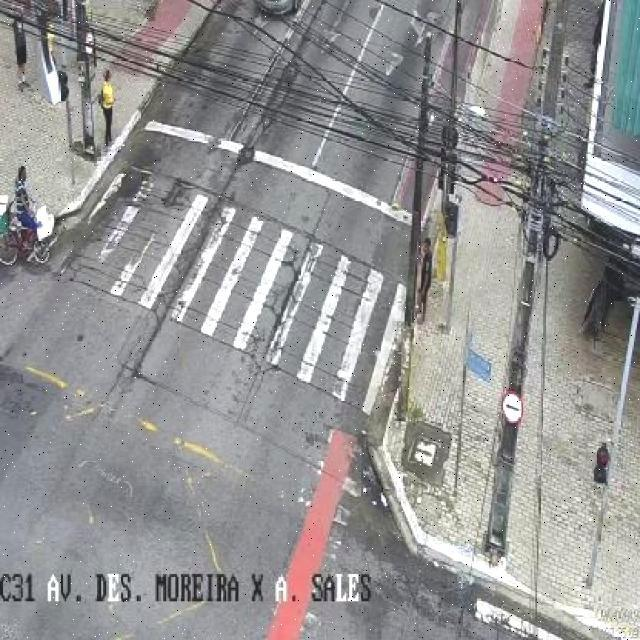Cycle: (0, 210, 53, 268)
